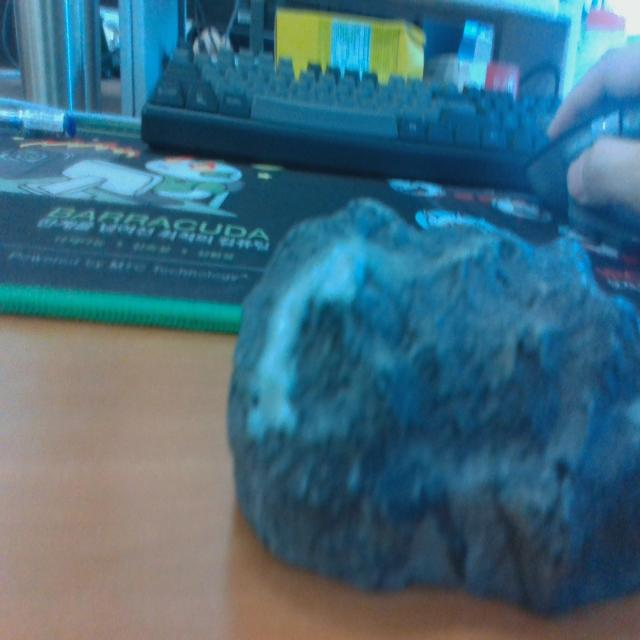stone: (225, 200, 640, 614)
